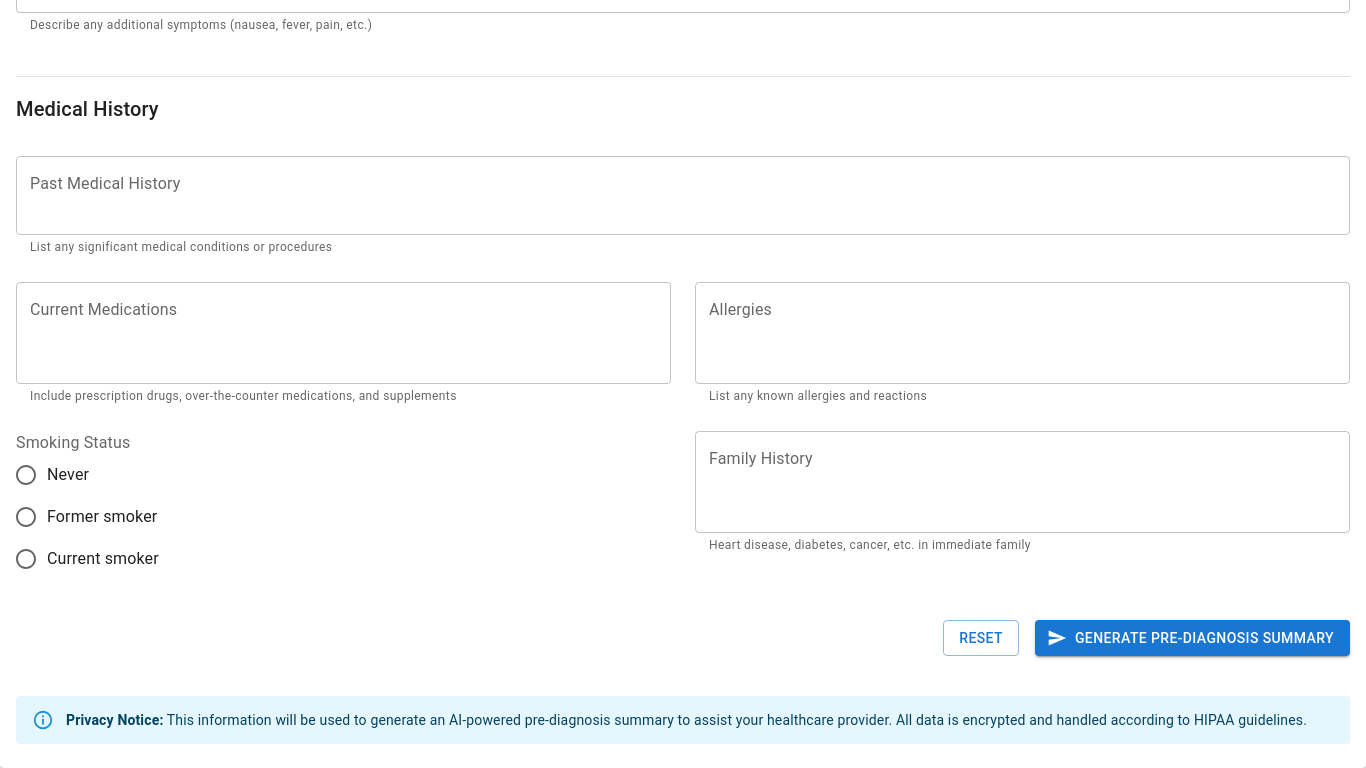
Test: PreDiagnosisQuestionnaire › validates required fields
The image size is (1366, 768).
(page scrolled)
Try to submit without filling required fields
Click the button "Generate Pre-Diagnosis Summary" at (1192, 638), box x1=1035 y1=620 x2=1350 y2=656
(page scrolled)
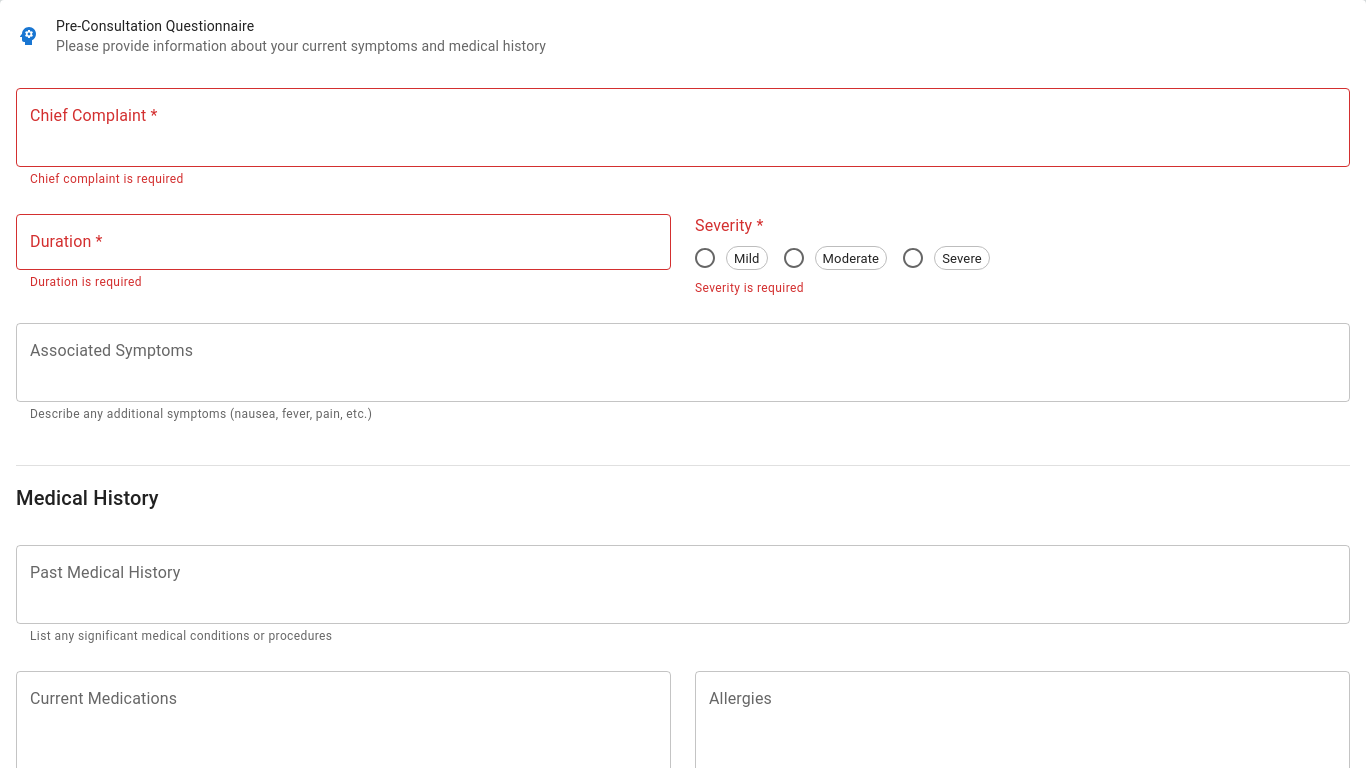
Now the text "Chief complaint is required" is shown, box x1=30 y1=172 x2=184 y2=186
Now the text "Duration is required" is shown, box x1=30 y1=275 x2=142 y2=289
Now the text "Severity is required" is shown, box x1=695 y1=281 x2=804 y2=295
